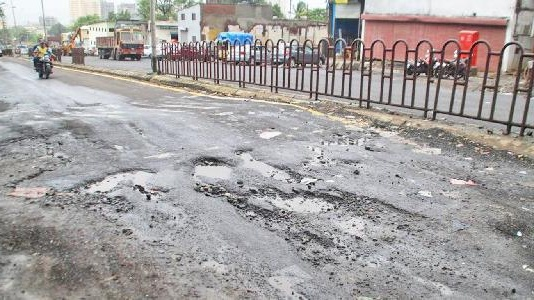pothole: (224, 186, 425, 233), (71, 167, 158, 197), (232, 146, 296, 182), (187, 154, 234, 181), (320, 134, 371, 148), (7, 182, 51, 197), (257, 127, 282, 141)
